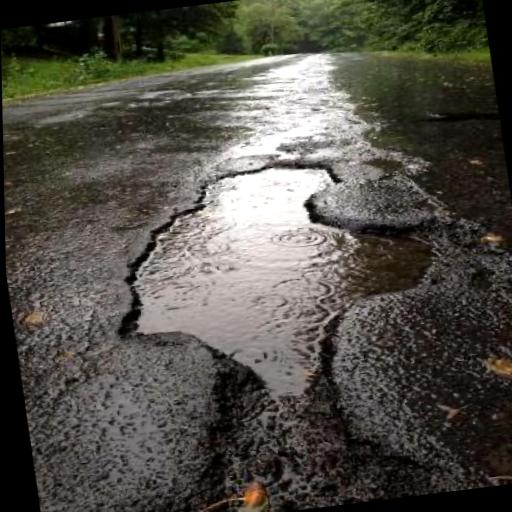pothole: (88, 140, 456, 412)
